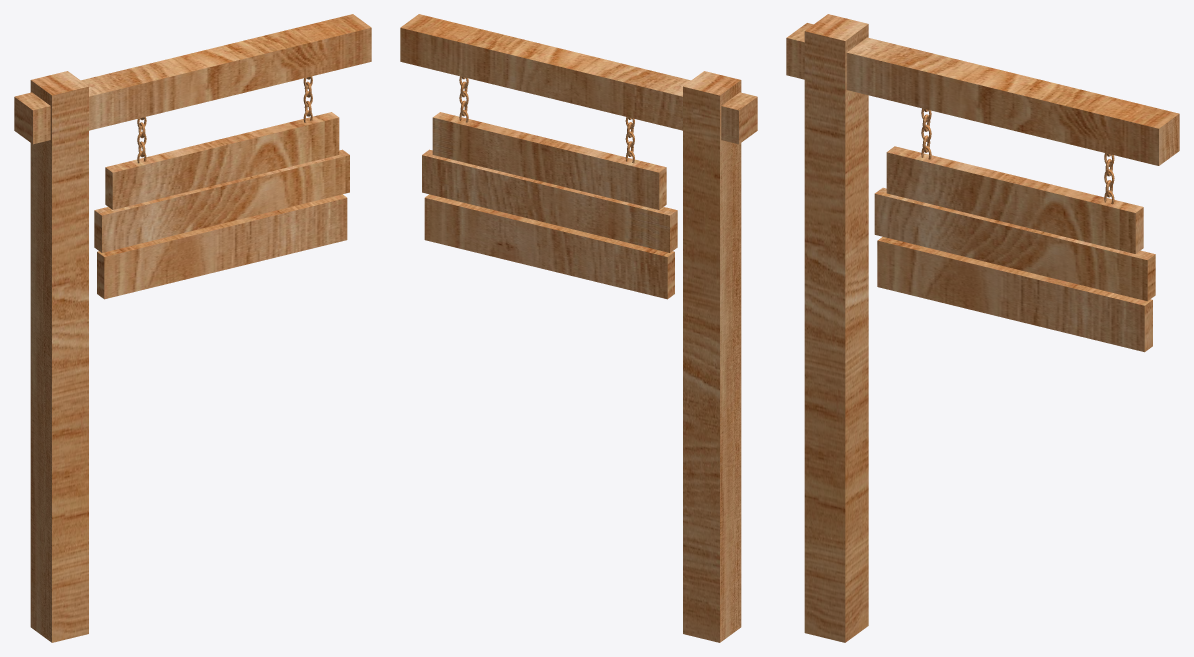
Rendered from village_sign.fbx.
3 renders of one model, left to right at view 1: azimuth 30°, elevation 25°; view 2: azimuth 150°, elevation 25°; view 3: azimuth 330°, elevation 25°, orthographic. The views are drawn at different scales.
Visible parts, largest first — view 1: viilage sign; view 2: viilage sign; view 3: viilage sign.
Boxes of the visible parts, box(x1,y1,x2,y2) form: viilage sign: box(14, 14, 371, 642); viilage sign: box(400, 14, 757, 642); viilage sign: box(786, 14, 1179, 642).
Bounding box in the file's own units: 239 × 369 × 26.05.
Materials: 1 (1 with a texture image).
